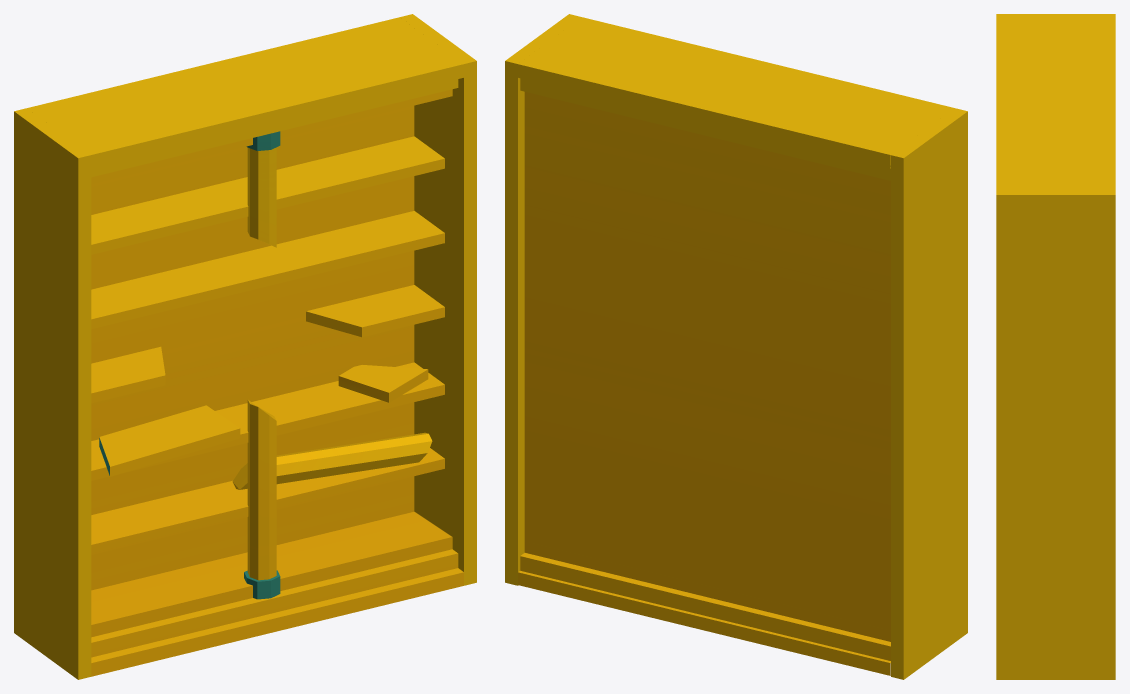
The model's file is 1 Bookshelf 02 Center 02.fbx.
3 renders of one model, left to right at view 1: azimuth 30°, elevation 25°; view 2: azimuth 150°, elevation 25°; view 3: azimuth 270°, elevation 25°, orthographic. The views are drawn at different scales.
Visible parts, largest first — view 1: Bookshelf 02 Center 02; view 2: Bookshelf 02 Center 02; view 3: Bookshelf 02 Center 02.
Boxes of the visible parts, x1,y1,x2,y2 form: Bookshelf 02 Center 02: [14, 14, 476, 679]; Bookshelf 02 Center 02: [505, 14, 967, 679]; Bookshelf 02 Center 02: [996, 14, 1115, 679].
Bounding box in the file's own units: 214 × 267 × 59.62.
